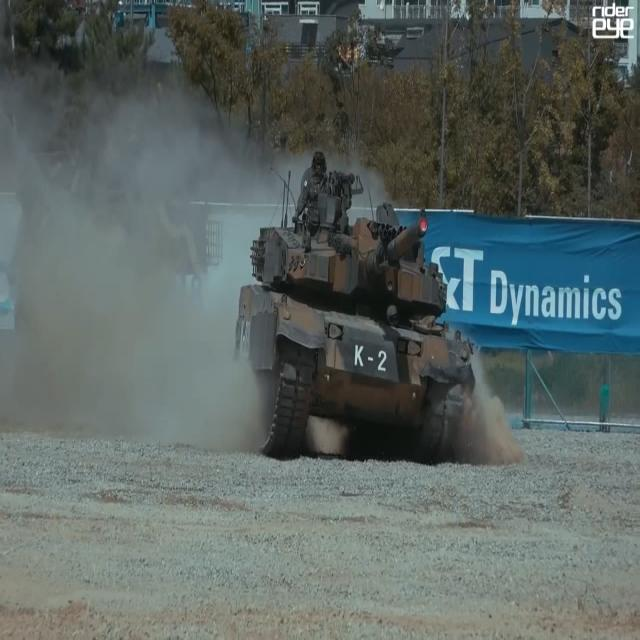korea tank: (234, 150, 480, 465)
